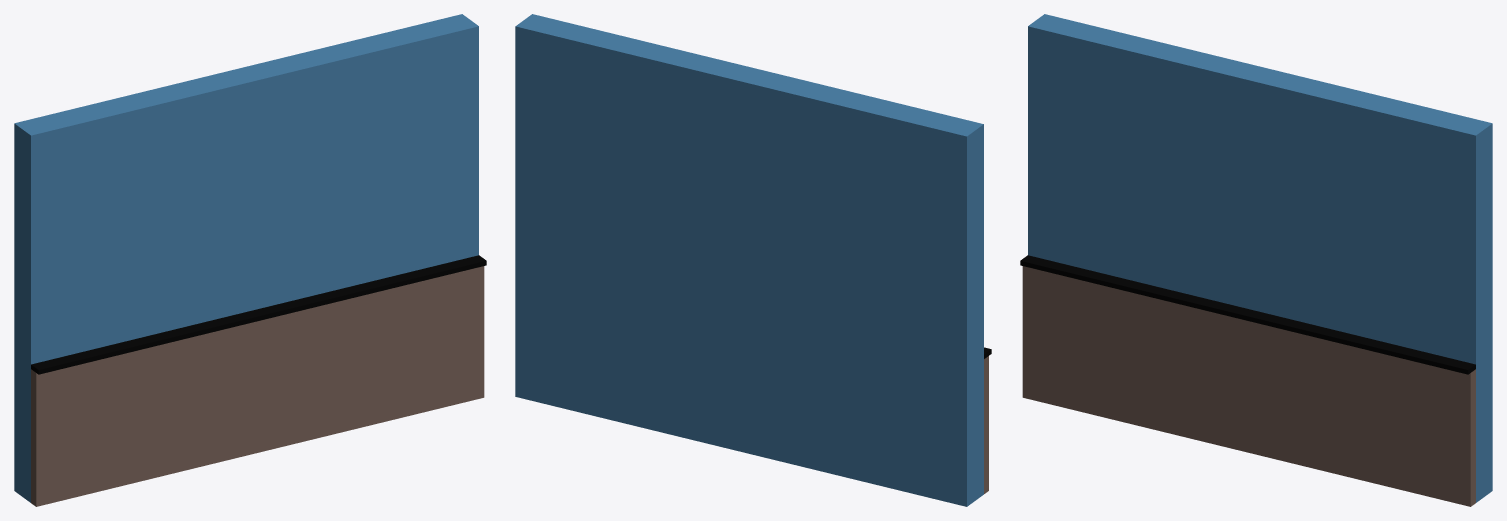
The model's file is P_Wall_Medium.fbx.
3 renders of one model, left to right at view 1: azimuth 30°, elevation 25°; view 2: azimuth 150°, elevation 25°; view 3: azimuth 330°, elevation 25°, orthographic.
Parts seen in each view (by area): view 1: P_Wall_Medium; view 2: P_Wall_Medium; view 3: P_Wall_Medium.
Boxes of the visible parts, x1,y1,x2,y2 form: P_Wall_Medium: (14,14,486,506); P_Wall_Medium: (515,14,991,506); P_Wall_Medium: (1020,14,1492,506).
Size of the model in its own units: 2000 by 189 by 1568.
